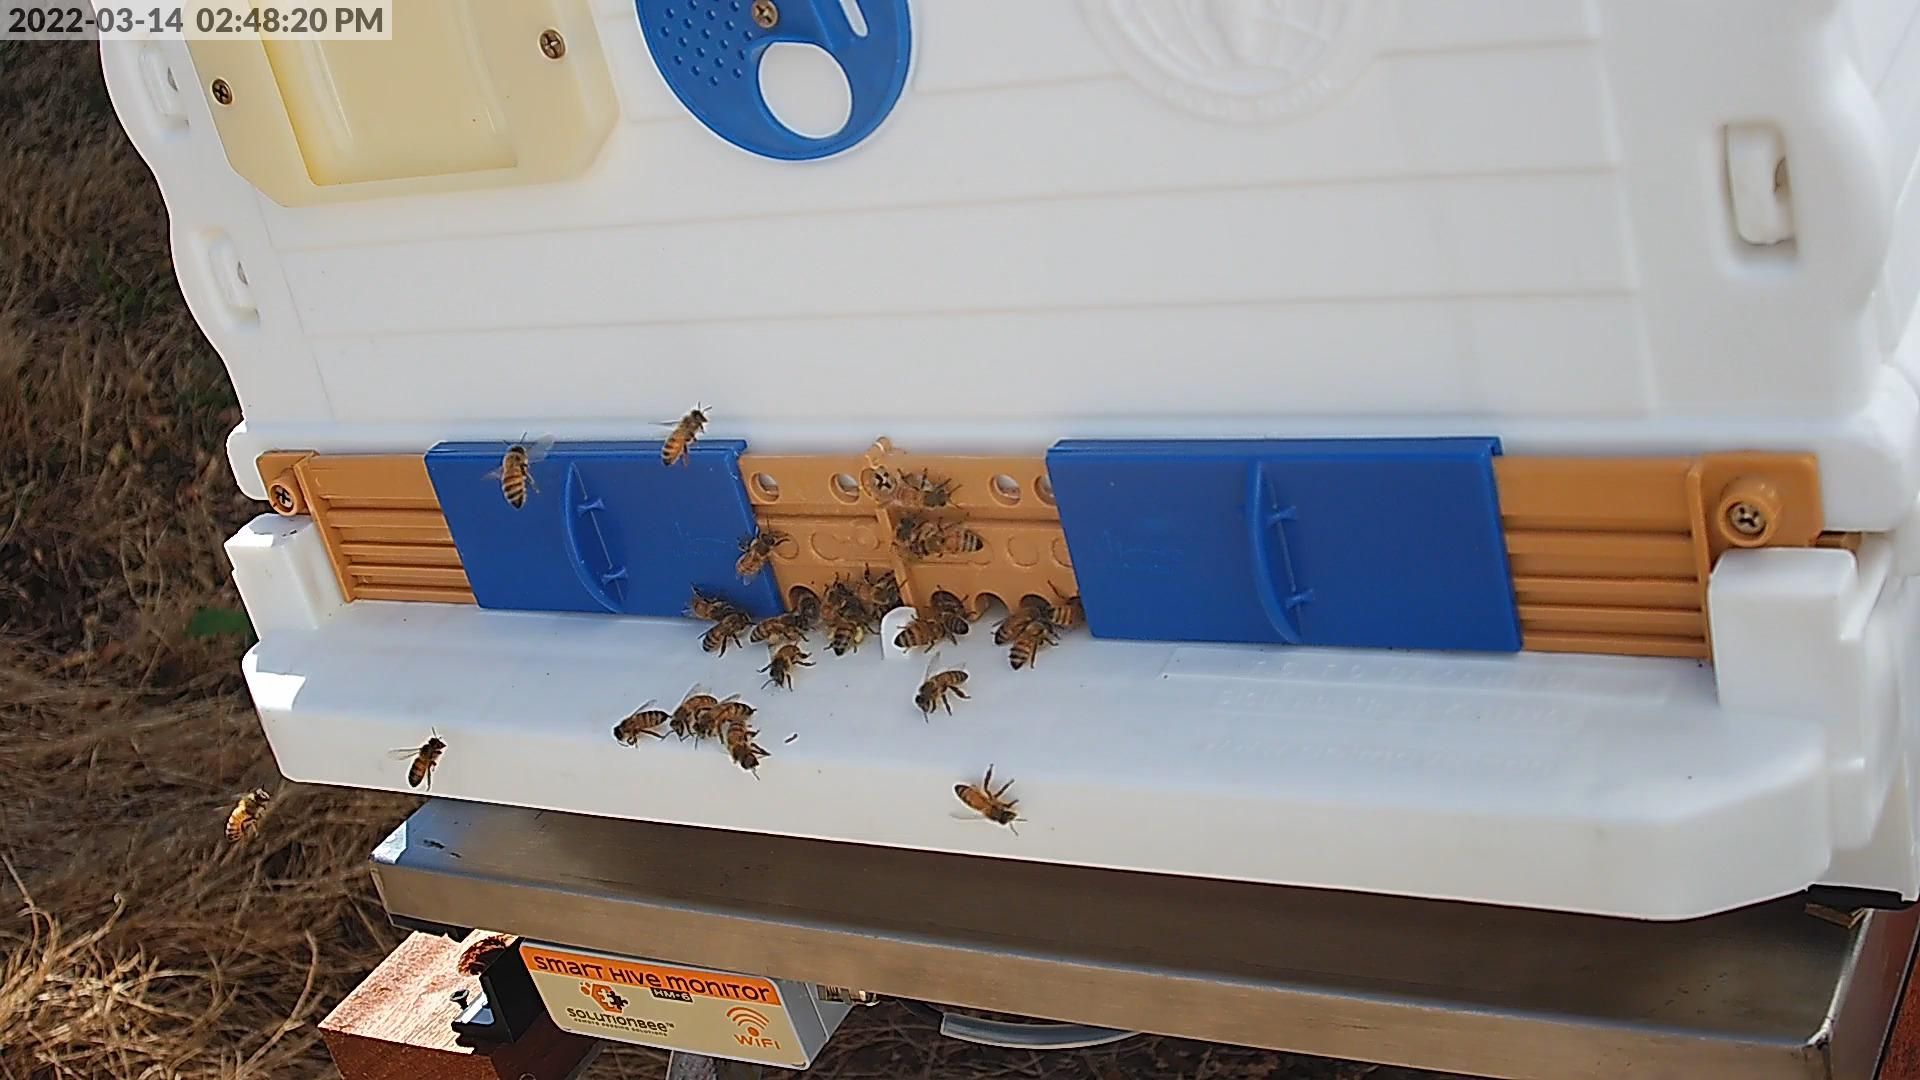bee: (661, 410, 707, 468), (955, 782, 1018, 822), (1009, 616, 1055, 669), (997, 603, 1050, 646), (227, 791, 266, 843), (915, 671, 968, 708), (704, 612, 752, 653), (696, 702, 754, 733), (671, 695, 717, 735), (500, 444, 527, 508), (615, 711, 669, 740), (409, 737, 442, 785), (728, 717, 758, 767), (736, 533, 774, 571), (890, 517, 926, 555), (894, 621, 945, 647), (894, 484, 948, 509), (928, 531, 985, 554), (819, 584, 851, 624), (750, 618, 802, 642), (771, 645, 800, 684), (1046, 601, 1087, 626), (851, 579, 897, 600), (691, 599, 735, 620), (936, 583, 963, 613), (938, 611, 968, 636), (798, 588, 819, 620)
pollenbee: (828, 609, 870, 654)
